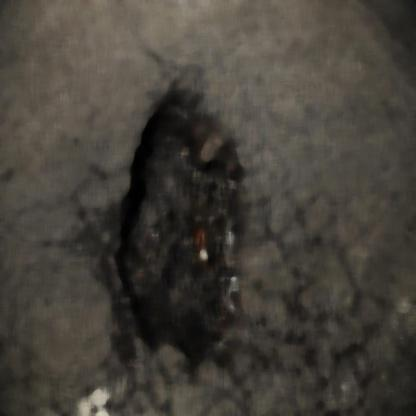Potholes: (136, 104, 219, 365)
